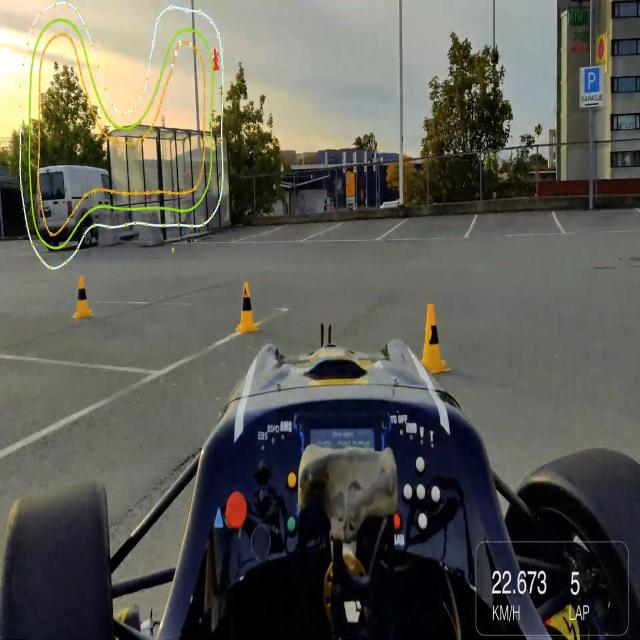yellow_cone: (418, 304, 448, 374), (237, 281, 259, 335), (73, 276, 93, 321)
